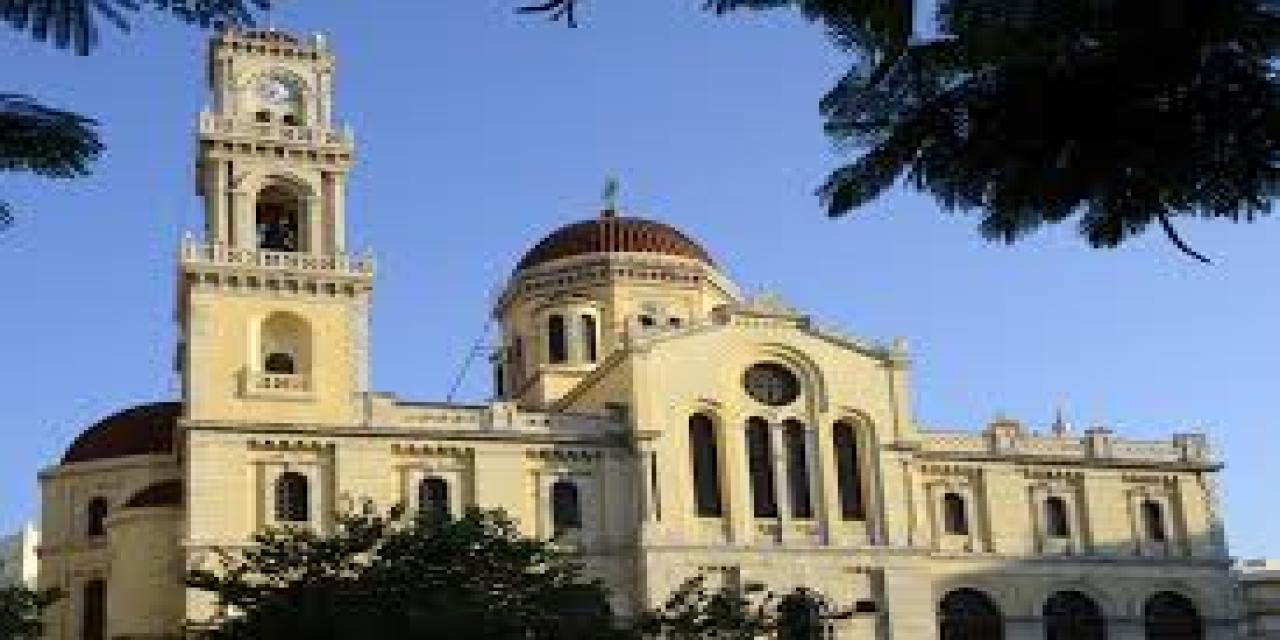Agios Minas: (32, 25, 1234, 640)
